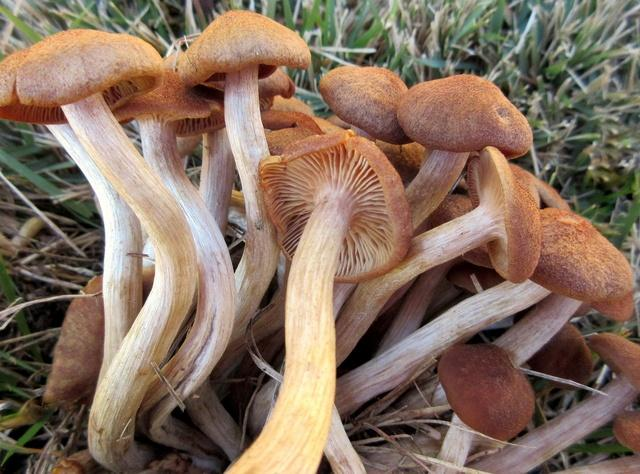Edible Mushroom: (1, 10, 634, 472)
